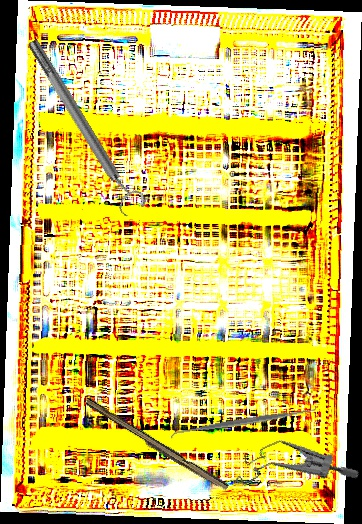Fixation Ring: (19, 32, 150, 220)
Scalpel Handle: (82, 397, 231, 494)
Spatula Surgical: (168, 402, 319, 442)
Speculum: (226, 414, 361, 523)
